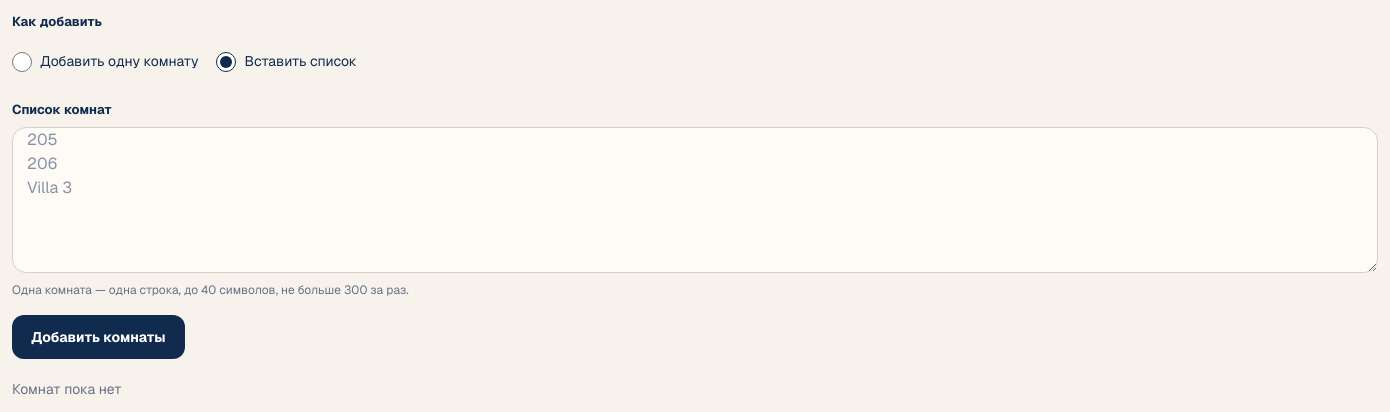
Test: RoomEditor › adds a single room from the single-room mode
Step 1. Click the radio button labelled "Добавить одну комнату" → (22, 62), box [12,52,32,72]
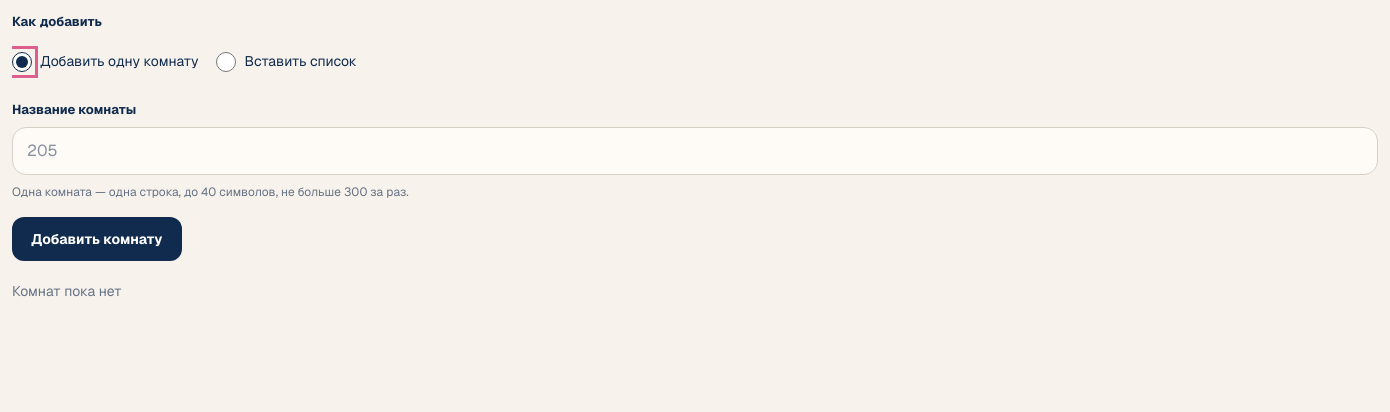
Step 2. Type " Villa 3 " into the field labelled "Название комнаты" → (695, 151), box [12,127,1378,175]
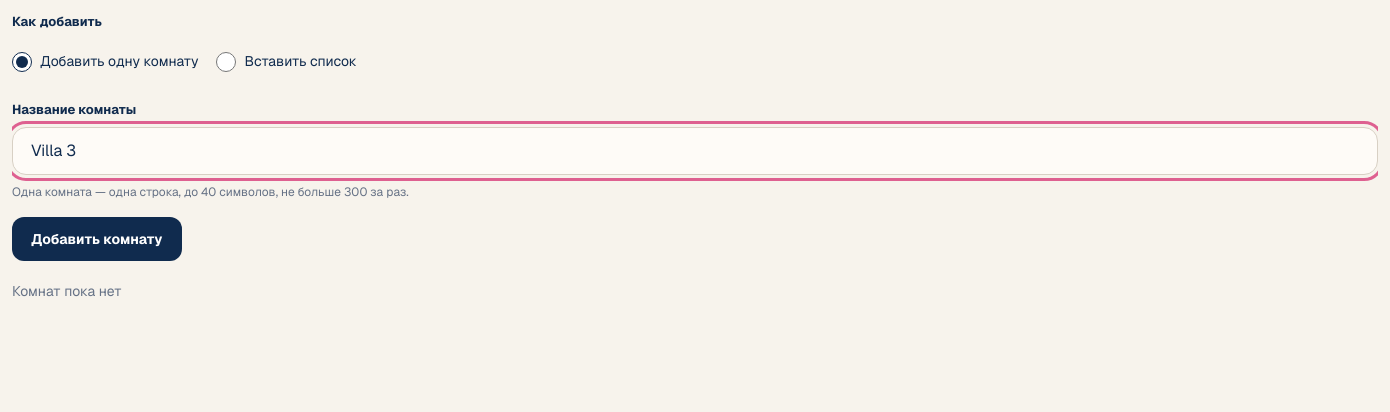
Step 3. Click the button "Добавить комнату" → (97, 239), box [12,217,182,261]
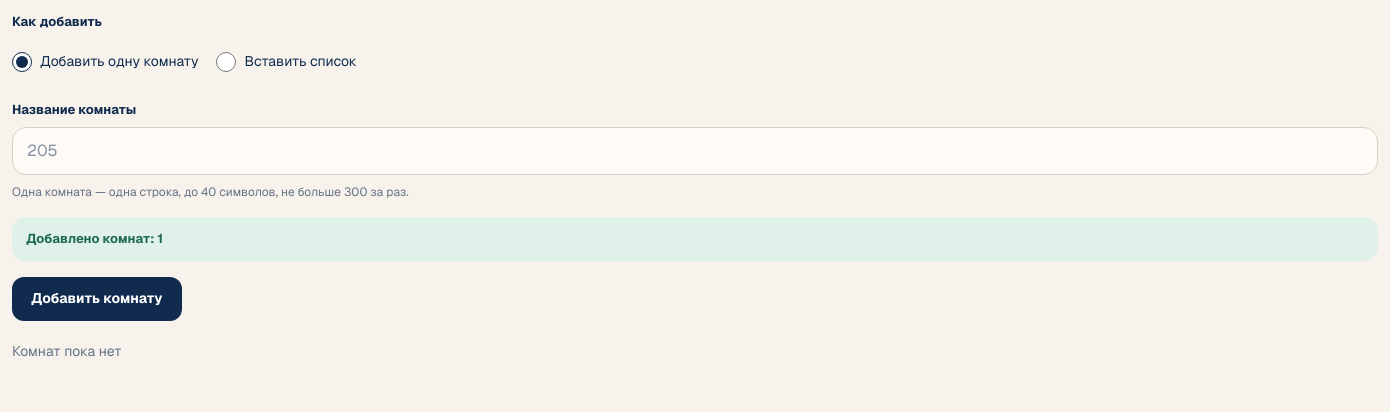
Now the text "Добавлено комнат: 1" is shown, box [12,217,1378,260]
